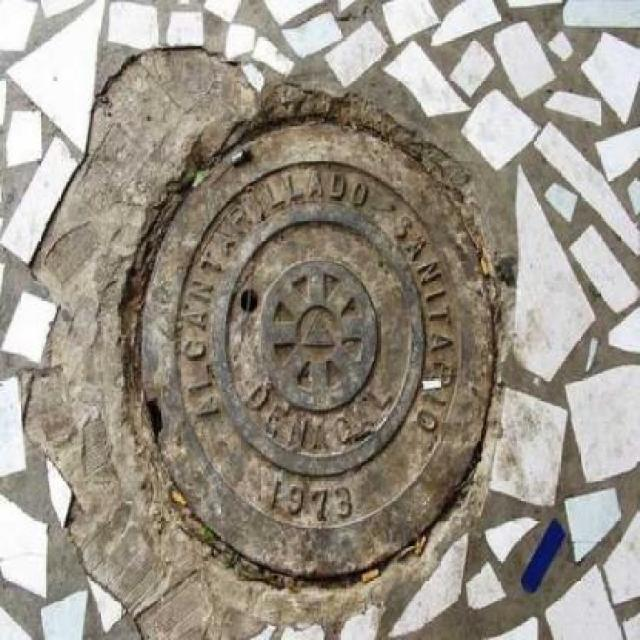Manhole: (137, 118, 502, 576)
